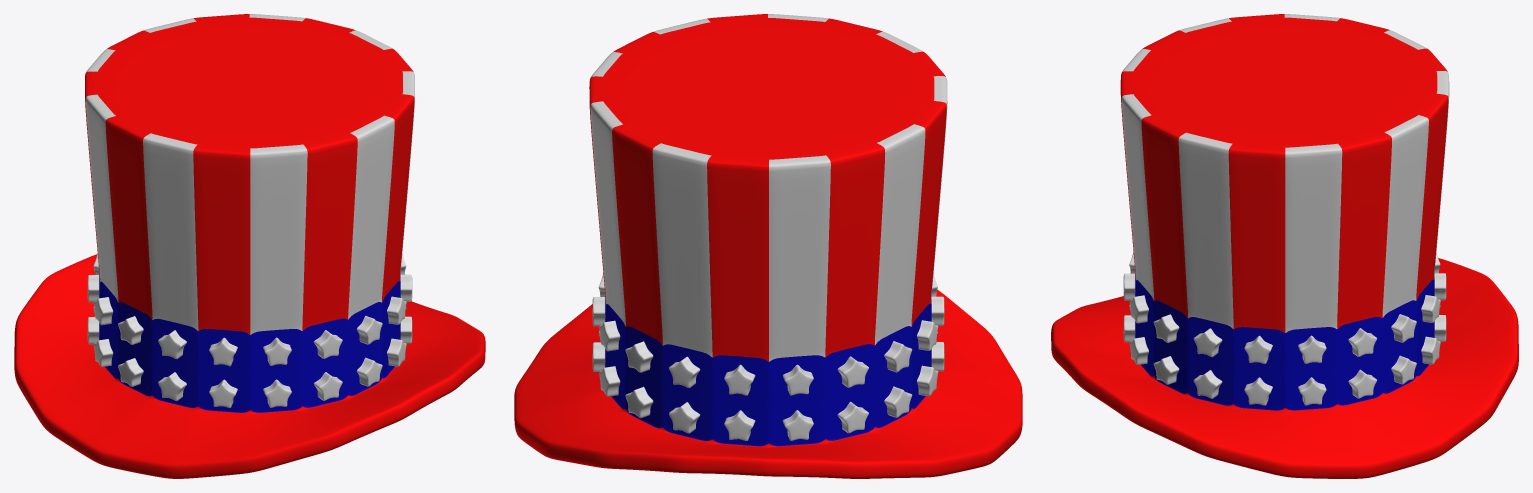
The model's file is USA_Hat.FBX.
The picture shows the model from 3 angles, left to right: view 1: azimuth 30°, elevation 25°; view 2: azimuth 150°, elevation 25°; view 3: azimuth 270°, elevation 25°; orthographic projection. The views are drawn at different scales.
Visible parts, largest first — view 1: Object018; view 2: Object018; view 3: Object018.
Part boxes in pixels (x1,y1,x2,y2): Object018: [14, 14, 485, 478]; Object018: [514, 14, 1022, 478]; Object018: [1051, 14, 1518, 478].
Bounding box in the file's own units: 84.06 × 59.7 × 83.25.
